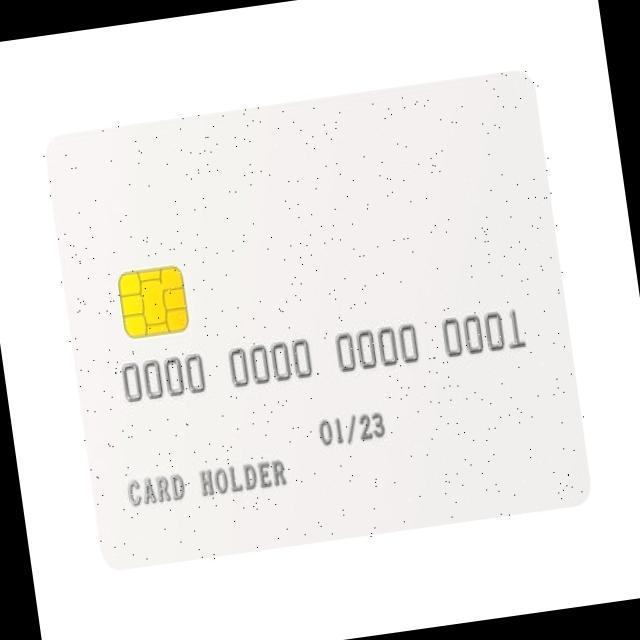payment_card: (44, 68, 591, 568)
